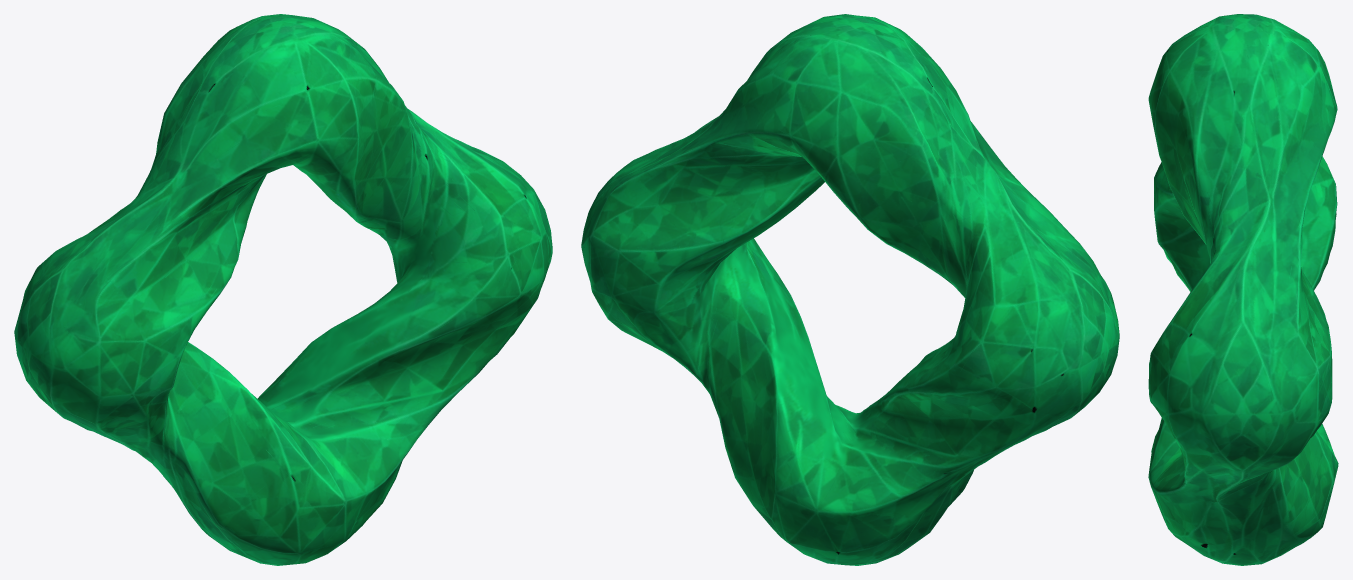
The model's file is bonus_beat_LOW_5k.fbx.
The picture shows the model from 3 angles, left to right: view 1: azimuth 30°, elevation 25°; view 2: azimuth 150°, elevation 25°; view 3: azimuth 270°, elevation 25°; orthographic projection.
Parts seen in each view (by area): view 1: HIGH; view 2: HIGH; view 3: HIGH.
Part boxes in pixels (x1=…): HIGH: x1=14, y1=14, x2=552, y2=565; HIGH: x1=581, y1=14, x2=1119, y2=565; HIGH: x1=1148, y1=14, x2=1338, y2=565.
Size of the model in its own units: 1.9 by 1.9 by 0.611.
